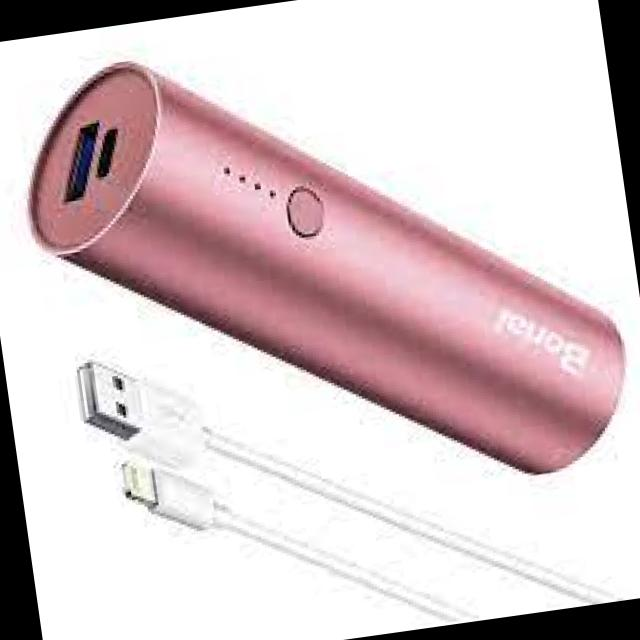power_bank: (0, 0, 640, 547)
